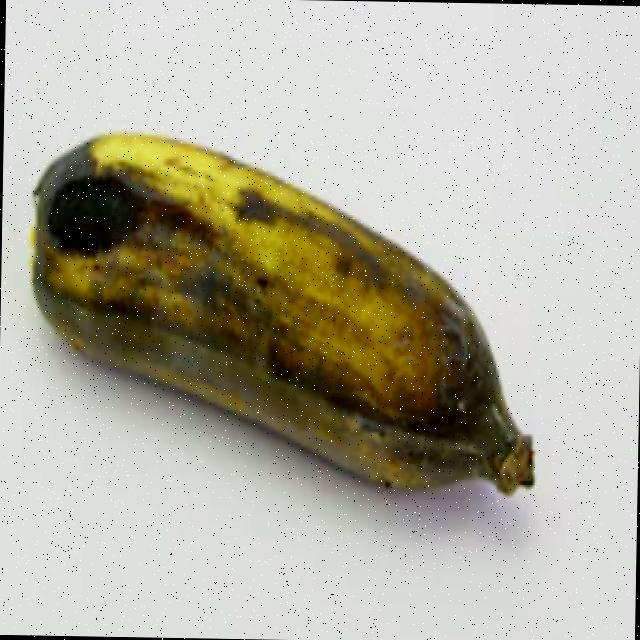Rotten: (11, 93, 556, 548)
